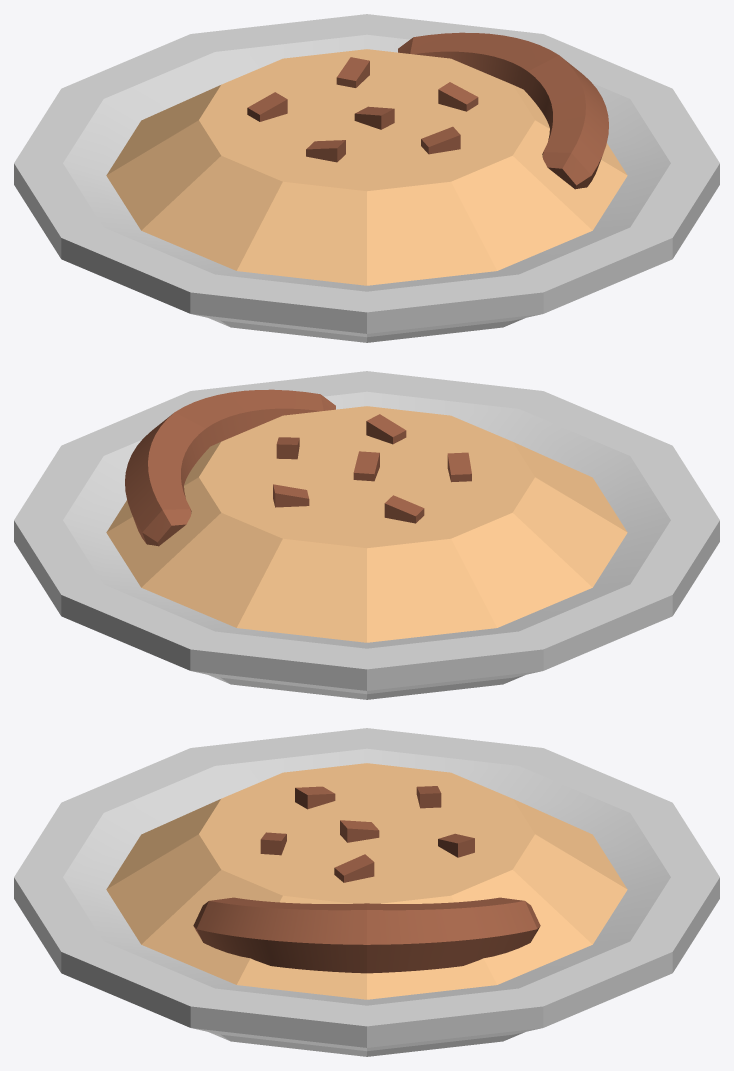
Rendered from plateSauerkraut.dae.
3 views of the same model, one above another, from view 1: azimuth 30°, elevation 25°; view 2: azimuth 150°, elevation 25°; view 3: azimuth 270°, elevation 25° (orthographic).
Visible parts, largest first — view 1: plateSauerkraut, sausage; view 2: plateSauerkraut, sausage; view 3: plateSauerkraut, sausage.
Part boxes in pixels (x1,y1,x2,y2): plateSauerkraut: (14, 14, 719, 342); sausage: (398, 32, 608, 189); plateSauerkraut: (14, 371, 719, 699); sausage: (125, 389, 335, 546); plateSauerkraut: (14, 728, 719, 1056); sausage: (193, 897, 540, 973).
Size of the model in its own units: 0.8918 by 0.1752 by 0.8918.
